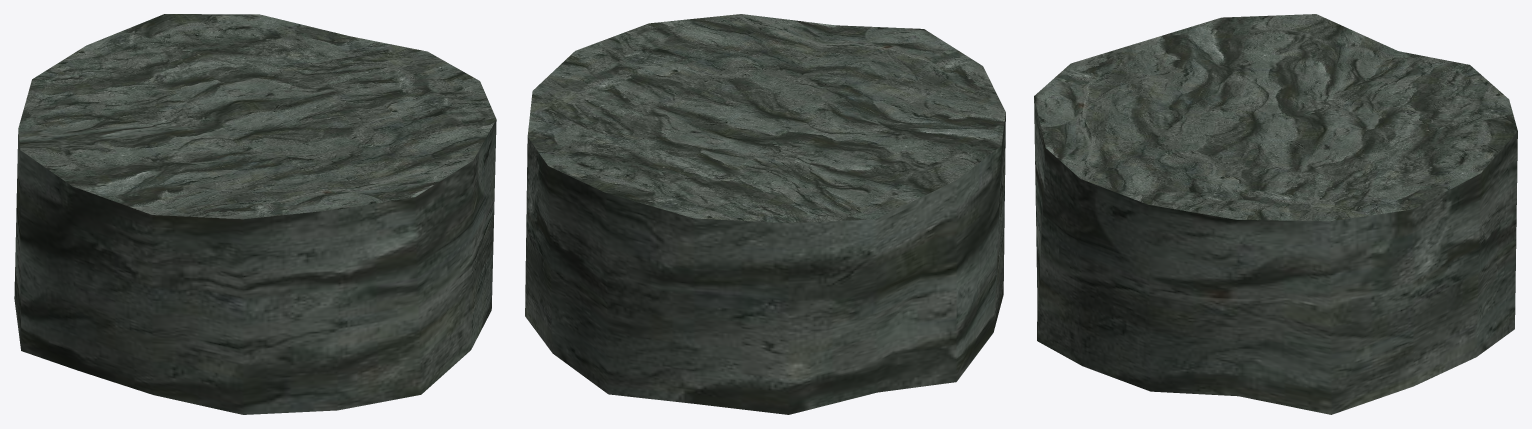
File: rock_3.glb
3 views of the same model, side by side, from view 1: azimuth 30°, elevation 25°; view 2: azimuth 150°, elevation 25°; view 3: azimuth 270°, elevation 25° (orthographic).
Visible parts, largest first — view 1: 3-512 (×2); view 2: 3-512 (×2); view 3: 3-512 (×2).
Part boxes in pixels (left/top/right/bottom): 3-512 (×2): left=14, top=14, right=496, bottom=414; 3-512 (×2): left=525, top=14, right=1005, bottom=414; 3-512 (×2): left=1034, top=14, right=1517, bottom=414.
Size of the model in its own units: 10.98 by 5.17 by 11.1.
Materials: 1 (1 with a texture image).
